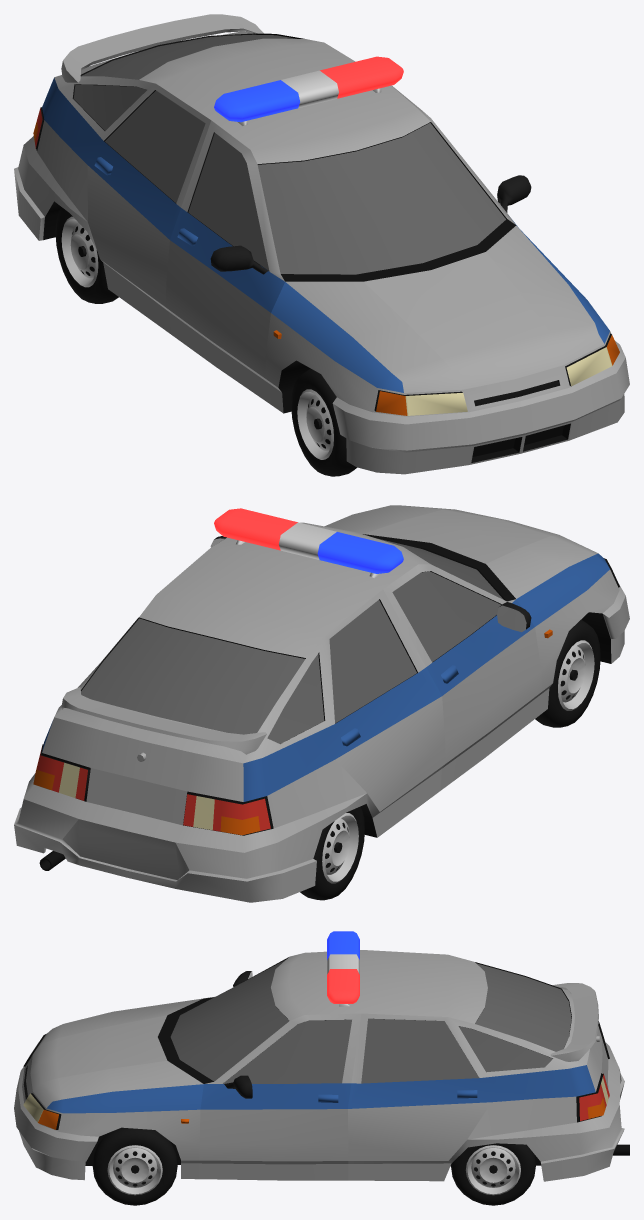
The model's file is boss-pepos.fbx.
3 views of the same model, one above another, from view 1: azimuth 30°, elevation 25°; view 2: azimuth 150°, elevation 25°; view 3: azimuth 270°, elevation 25° (orthographic). The views are drawn at different scales.
Visible parts, largest first — view 1: Lada_2112, Siren, Lada_2112.001, Wheel_R_F, Wheel_R_B, Mirror_R, Mirror_L; view 2: Lada_2112, Siren, Wheel_R_F, Wheel_R_B, Lada_2112.001, Mirror_R; view 3: Lada_2112, Wheel_L_F, Wheel_L_B, Siren, Lada_2112.001, Mirror_L.
Part boxes in pixels (bbox=[...]): Lada_2112: bbox=[14, 31, 629, 474]; Siren: bbox=[214, 56, 403, 125]; Lada_2112.001: bbox=[61, 14, 263, 82]; Wheel_R_F: bbox=[291, 368, 356, 476]; Wheel_R_B: bbox=[55, 207, 118, 303]; Mirror_R: bbox=[210, 245, 267, 274]; Mirror_L: bbox=[497, 175, 531, 212]; Lada_2112: bbox=[14, 505, 629, 902]; Siren: bbox=[214, 508, 403, 577]; Wheel_R_F: bbox=[535, 619, 600, 727]; Wheel_R_B: bbox=[300, 807, 364, 900]; Lada_2112.001: bbox=[61, 687, 266, 754]; Mirror_R: bbox=[497, 602, 531, 632]; Lada_2112: bbox=[14, 950, 629, 1181]; Wheel_L_F: bbox=[92, 1127, 177, 1205]; Wheel_L_B: bbox=[451, 1143, 535, 1205]; Siren: bbox=[327, 931, 359, 1006]; Lada_2112.001: bbox=[550, 983, 598, 1061]; Mirror_L: bbox=[224, 1075, 252, 1098].
Size of the model in its own units: 19095 by 15100 by 42425.
